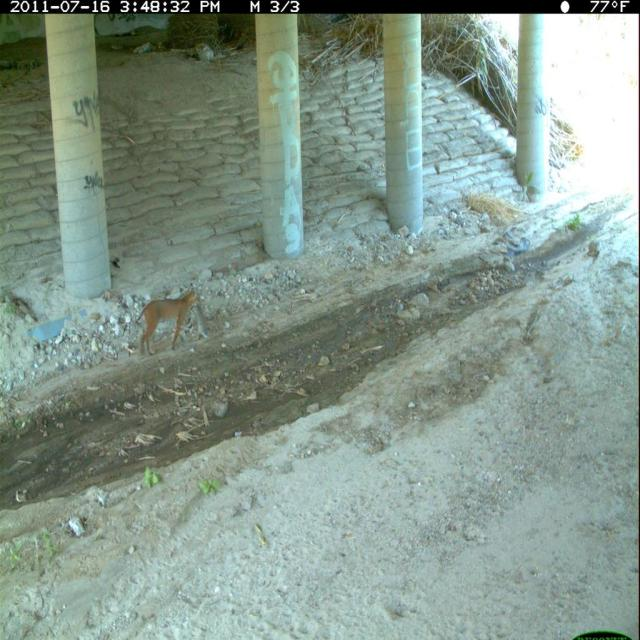bobcat: (134, 283, 203, 362)
rabbit: (195, 299, 212, 343)
